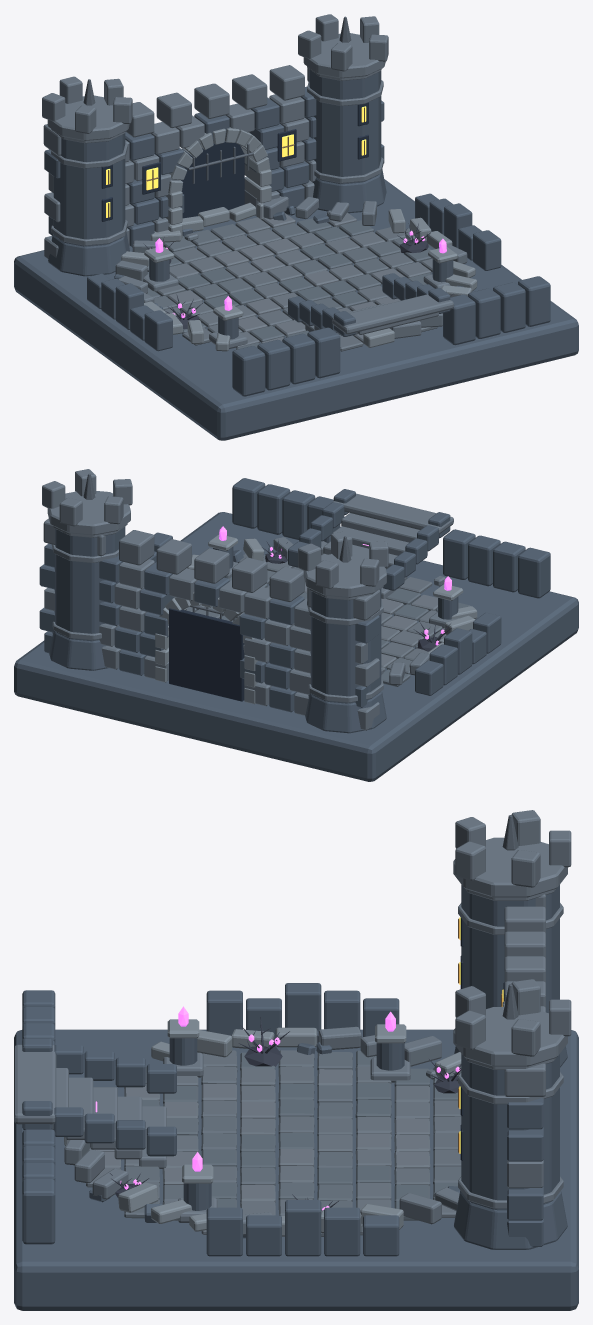
The model's file is s00_courtyard.glb.
The picture shows the model from 3 angles, top to bottom: view 1: azimuth 30°, elevation 25°; view 2: azimuth 150°, elevation 25°; view 3: azimuth 270°, elevation 25°; orthographic projection. The views are drawn at different scales.
Parts seen in each view (by area): view 1: S00_Courtyard | Slate | blue-black limestone, S00_Courtyard | Slate | worn edges, S00_Courtyard | Slate | pale fractures, S00_Courtyard | Floor slate 00, S00_Courtyard | Floor slate 02, S00_Courtyard | Recess | midnight, S00_Courtyard | Floor slate 03, S00_Courtyard | Floor slate 01, S00_Courtyard | Floor slate 04, S00_Courtyard | Iron | cold forged, S00_Courtyard | Amber | leaded glass, S00_Courtyard | Thorn | blue charcoal; view 2: S00_Courtyard | Slate | blue-black limestone, S00_Courtyard | Slate | worn edges, S00_Courtyard | Recess | midnight, S00_Courtyard | Slate | pale fractures, S00_Courtyard | Floor slate 02, S00_Courtyard | Floor slate 00, S00_Courtyard | Floor slate 04, S00_Courtyard | Floor slate 03, S00_Courtyard | Thorn | blue charcoal, S00_Courtyard | Iron | cold forged, S00_Courtyard | Floor slate 01; view 3: S00_Courtyard | Slate | blue-black limestone, S00_Courtyard | Slate | worn edges, S00_Courtyard | Floor slate 00, S00_Courtyard | Floor slate 03, S00_Courtyard | Floor slate 01, S00_Courtyard | Floor slate 02, S00_Courtyard | Floor slate 04, S00_Courtyard | Slate | pale fractures, S00_Courtyard | Thorn | blue charcoal, S00_Courtyard | Veil | restrained amethyst, S00_Courtyard | Iron | cold forged.
Boxes of the visible parts, left/top/right/bottom form: S00_Courtyard | Slate | blue-black limestone: left=14, top=69, right=578, bottom=440; S00_Courtyard | Slate | worn edges: left=42, top=14, right=467, bottom=348; S00_Courtyard | Slate | pale fractures: left=121, top=127, right=477, bottom=351; S00_Courtyard | Floor slate 00: left=147, top=218, right=431, bottom=349; S00_Courtyard | Floor slate 02: left=156, top=227, right=437, bottom=351; S00_Courtyard | Recess | midnight: left=101, top=102, right=368, bottom=221; S00_Courtyard | Floor slate 03: left=169, top=212, right=432, bottom=348; S00_Courtyard | Floor slate 01: left=154, top=223, right=408, bottom=324; S00_Courtyard | Floor slate 04: left=167, top=213, right=432, bottom=343; S00_Courtyard | Iron | cold forged: left=83, top=16, right=351, bottom=183; S00_Courtyard | Amber | leaded glass: left=106, top=106, right=366, bottom=217; S00_Courtyard | Thorn | blue charcoal: left=143, top=223, right=453, bottom=329; S00_Courtyard | Slate | blue-black limestone: left=14, top=478, right=578, bottom=781; S00_Courtyard | Slate | worn edges: left=42, top=469, right=458, bottom=730; S00_Courtyard | Recess | midnight: left=169, top=608, right=244, bottom=701; S00_Courtyard | Slate | pale fractures: left=155, top=534, right=477, bottom=704; S00_Courtyard | Floor slate 02: left=196, top=561, right=446, bottom=671; S00_Courtyard | Floor slate 00: left=222, top=577, right=470, bottom=686; S00_Courtyard | Floor slate 04: left=268, top=582, right=437, bottom=668; S00_Courtyard | Floor slate 03: left=233, top=561, right=437, bottom=647; S00_Courtyard | Thorn | blue charcoal: left=262, top=539, right=451, bottom=651; S00_Courtyard | Iron | cold forged: left=83, top=473, right=351, bottom=621; S00_Courtyard | Floor slate 01: left=186, top=554, right=412, bottom=674; S00_Courtyard | Slate | blue-black limestone: left=14, top=885, right=578, bottom=1310; S00_Courtyard | Slate | worn edges: left=14, top=810, right=571, bottom=1235; S00_Courtyard | Floor slate 00: left=142, top=1050, right=457, bottom=1220; S00_Courtyard | Floor slate 03: left=124, top=1068, right=456, bottom=1220; S00_Courtyard | Floor slate 01: left=124, top=1052, right=461, bottom=1236; S00_Courtyard | Floor slate 02: left=86, top=1050, right=461, bottom=1235; S00_Courtyard | Floor slate 04: left=89, top=1069, right=430, bottom=1234; S00_Courtyard | Slate | pale fractures: left=64, top=1001, right=504, bottom=1236; S00_Courtyard | Thorn | blue charcoal: left=110, top=1016, right=461, bottom=1210; S00_Courtyard | Veil | restrained amethyst: left=95, top=1006, right=460, bottom=1210; S00_Courtyard | Iron | cold forged: left=502, top=815, right=518, bottom=1019.
Size of the model in its own units: 12 by 6.91 by 12.
